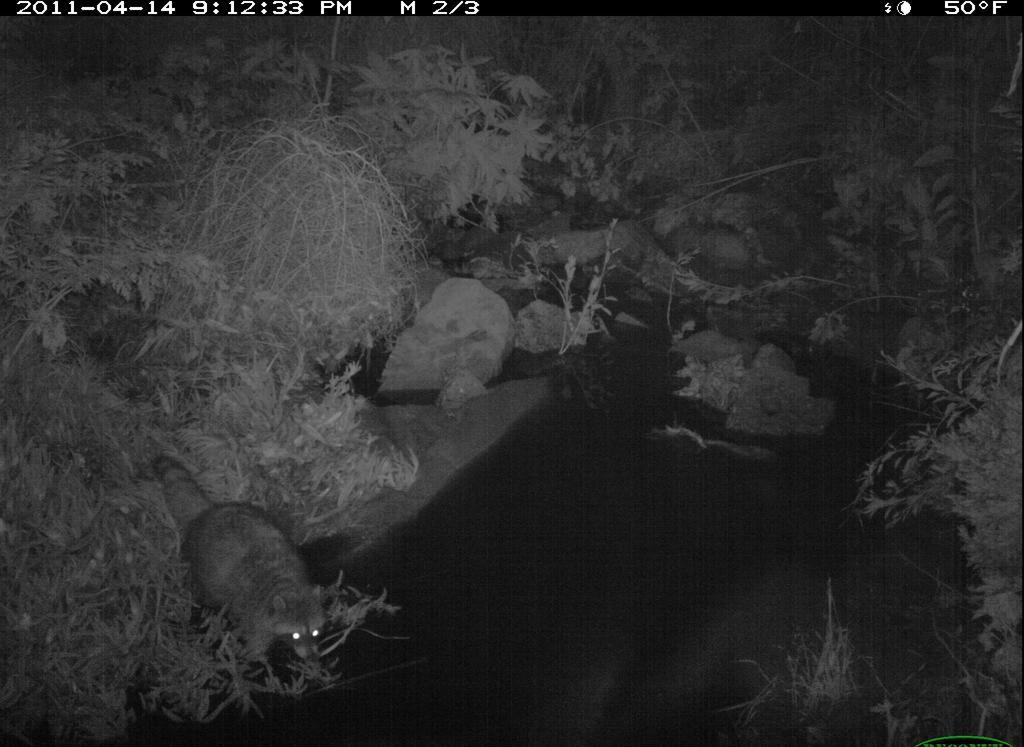raccoon: (140, 455, 340, 687)
